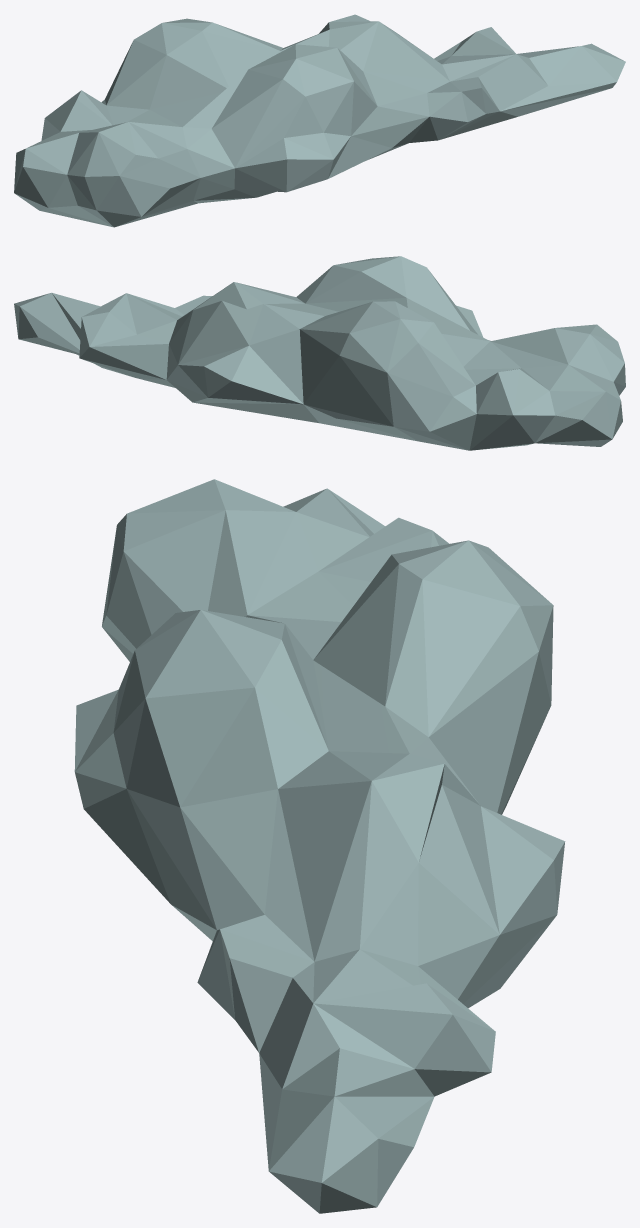
File: SM_Env_Cloud_02.glb
3 renders of one model, top to bottom at view 1: azimuth 30°, elevation 25°; view 2: azimuth 150°, elevation 25°; view 3: azimuth 270°, elevation 25°, orthographic. The views are drawn at different scales.
Parts seen in each view (by area): view 1: SM_Env_Cloud_02; view 2: SM_Env_Cloud_02; view 3: SM_Env_Cloud_02.
Boxes of the visible parts, bbox=[...] form: SM_Env_Cloud_02: bbox=[14, 14, 625, 227]; SM_Env_Cloud_02: bbox=[14, 256, 625, 450]; SM_Env_Cloud_02: bbox=[74, 479, 565, 1213].
Size of the model in its own units: 0.7292 by 0.1705 by 0.2571.
